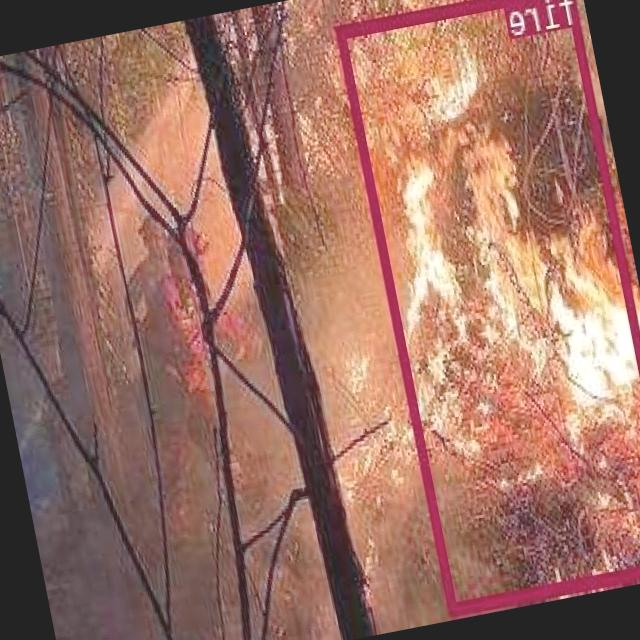fire: (338, 0, 640, 613)
